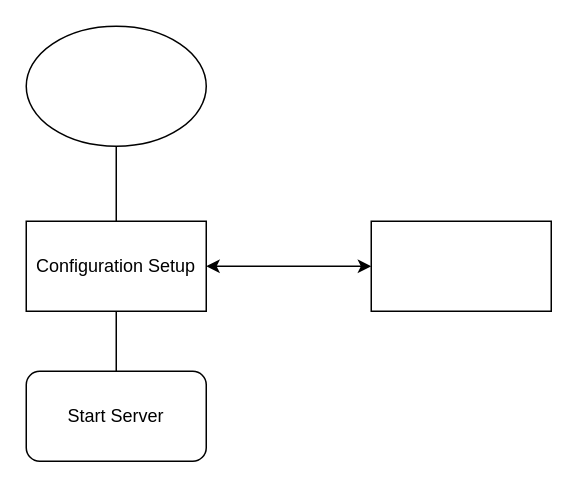
This 578x488 diagram has some shape labels left out. The centre of each missing label's shape, as x and y in pixels:
"Initialize all routes" goes at point (460, 265).
"Server" goes at point (115, 85).
